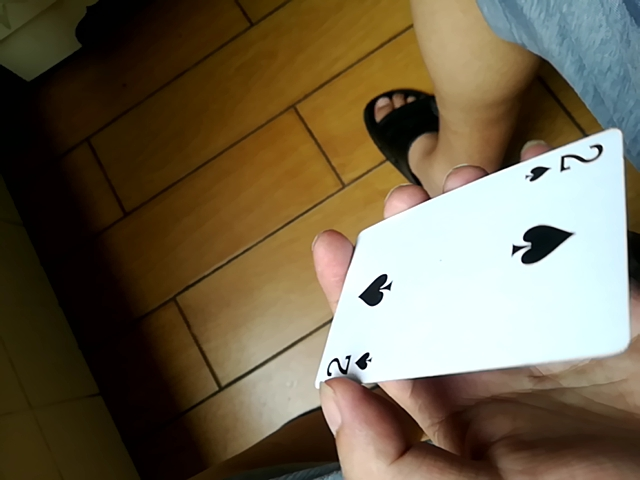ht 2: (326, 129, 631, 394)
